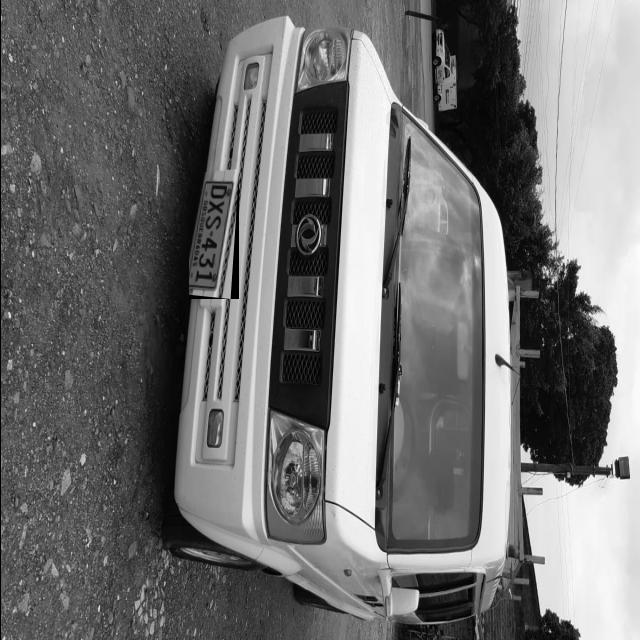plate: (188, 172, 237, 297)
